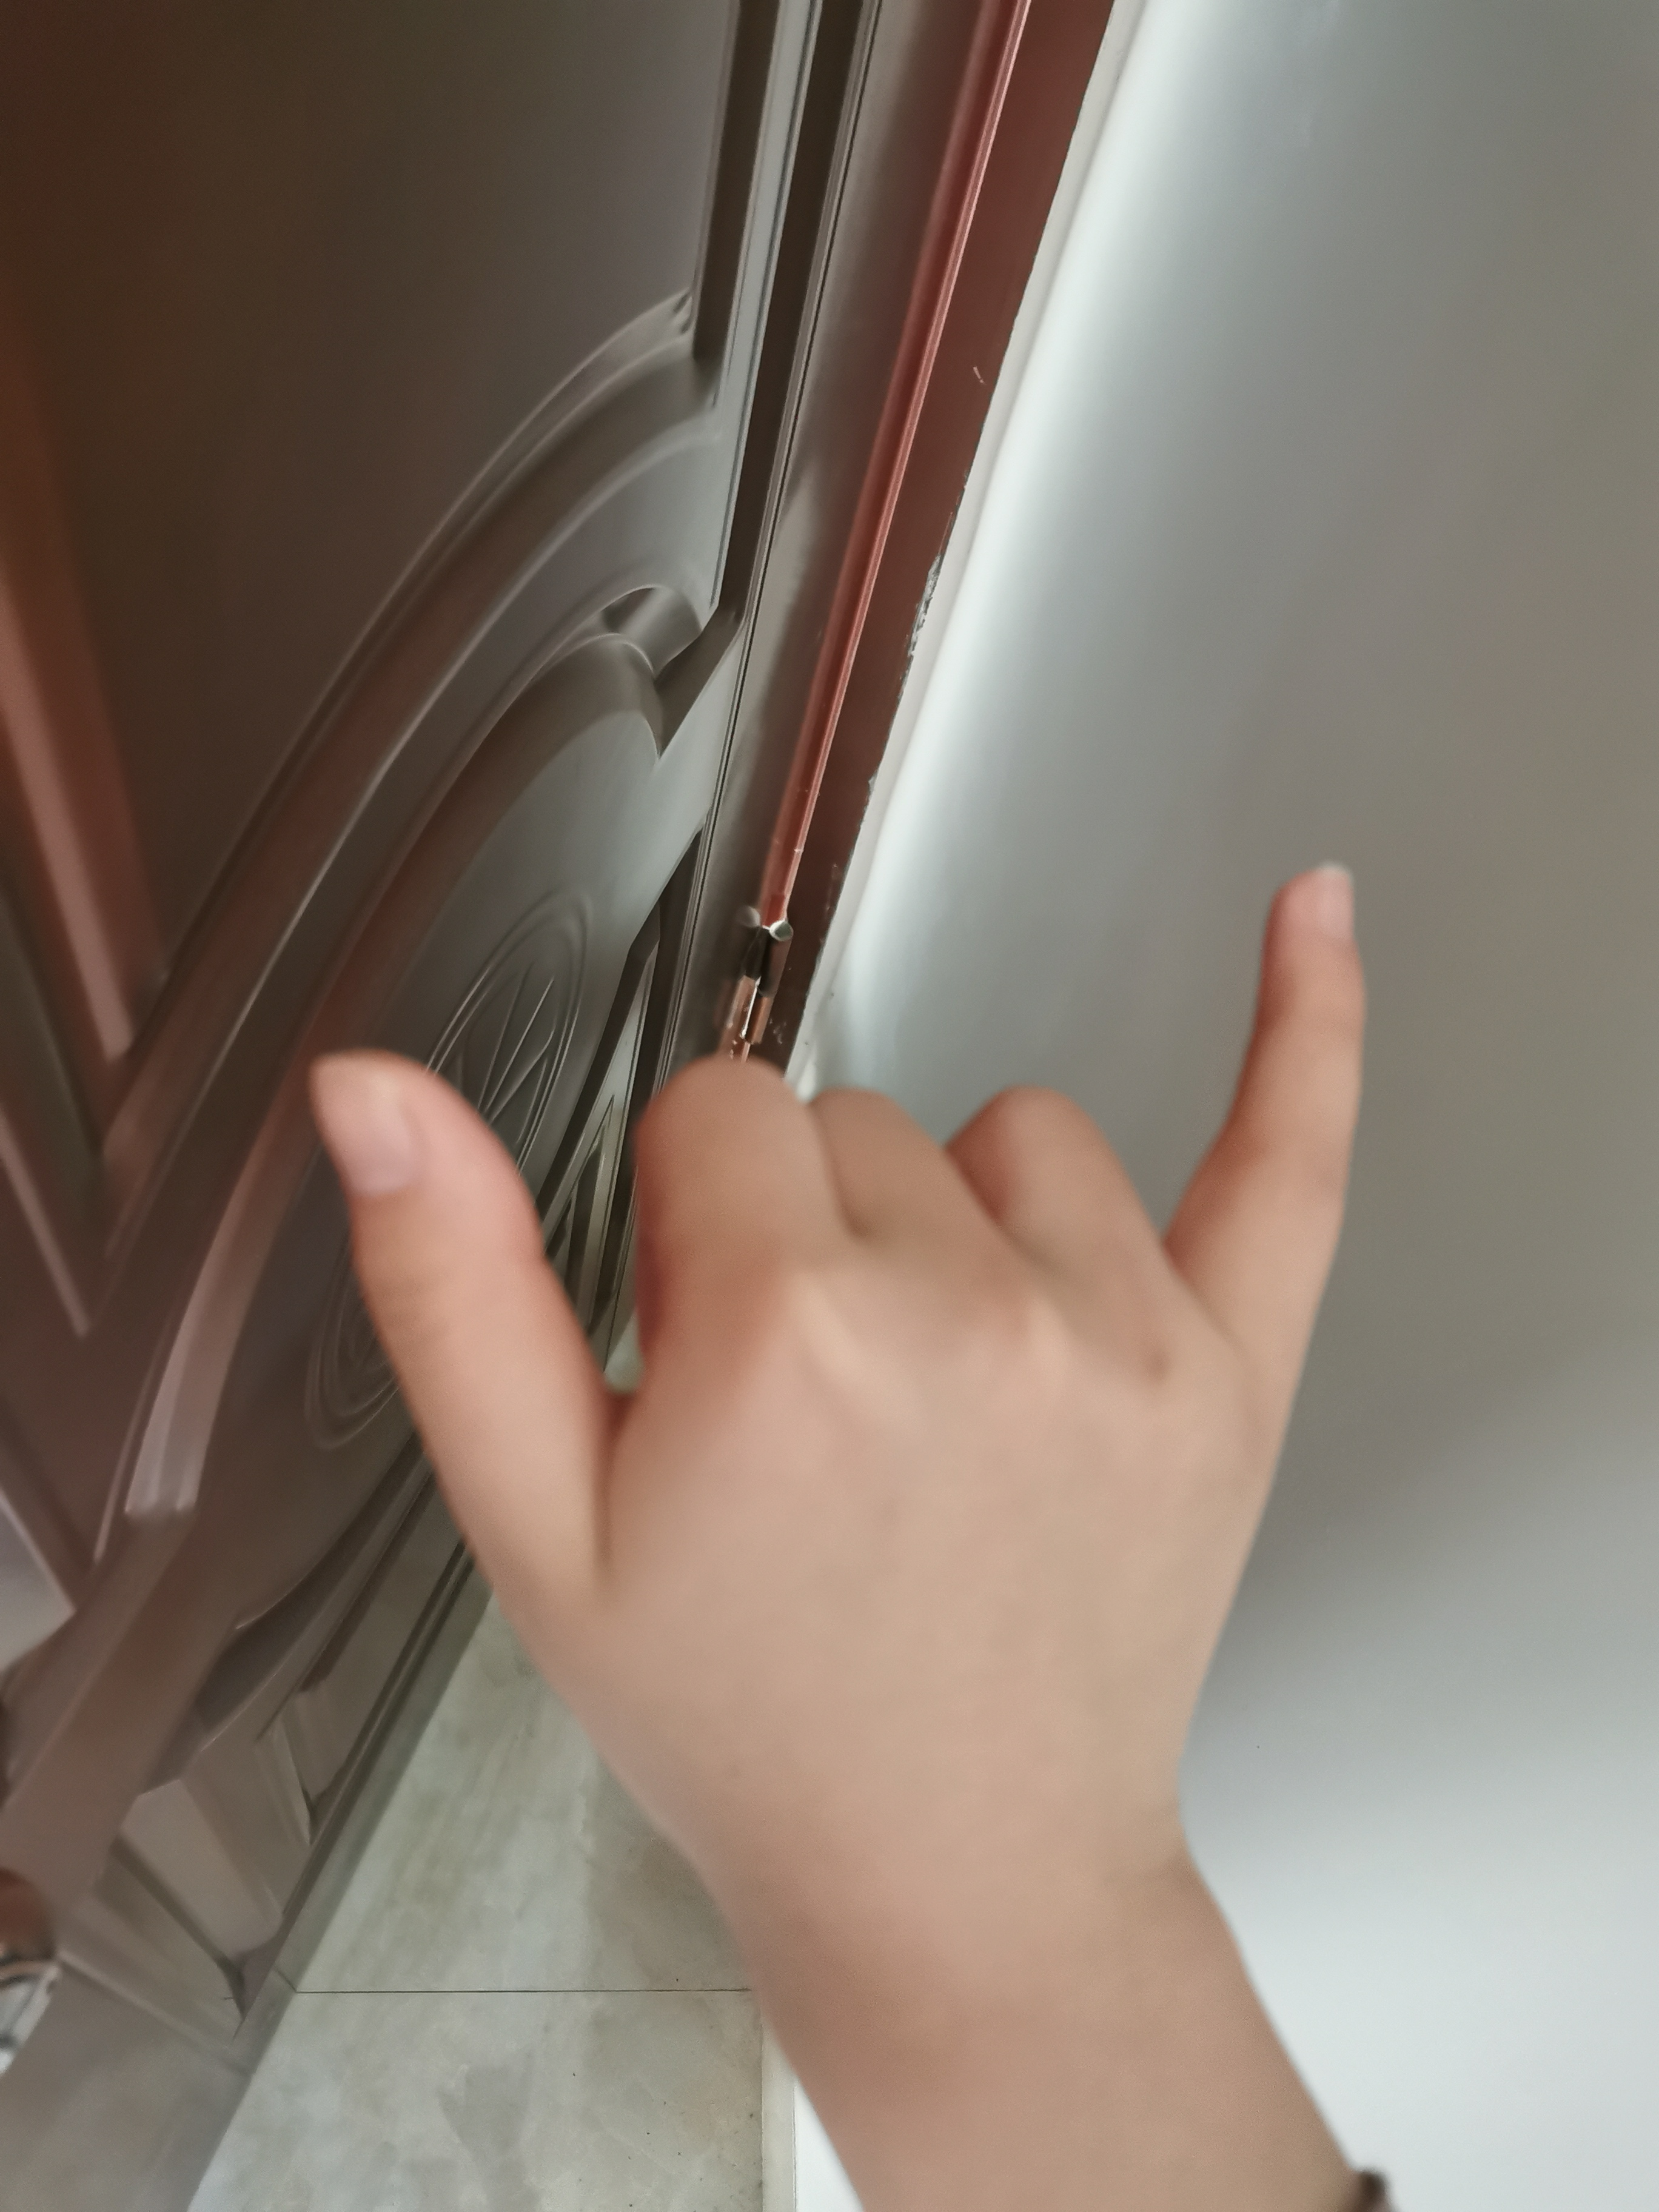clockwise: (300, 871, 1385, 1935)
